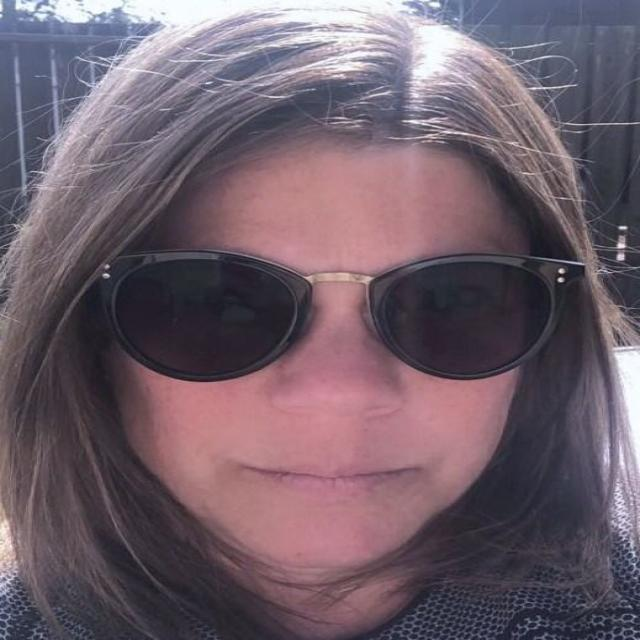2_gafas: (81, 247, 588, 384)
